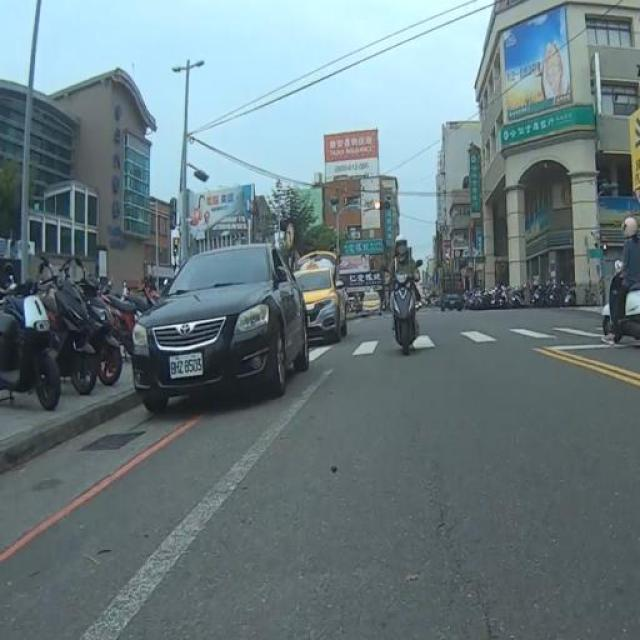Legalparking: (4, 236, 188, 404)
illegalparking: (125, 238, 360, 422)
